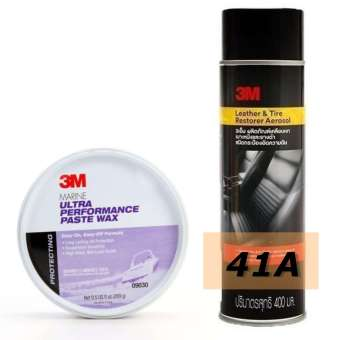Aerosol_cans: (217, 5, 308, 330)
